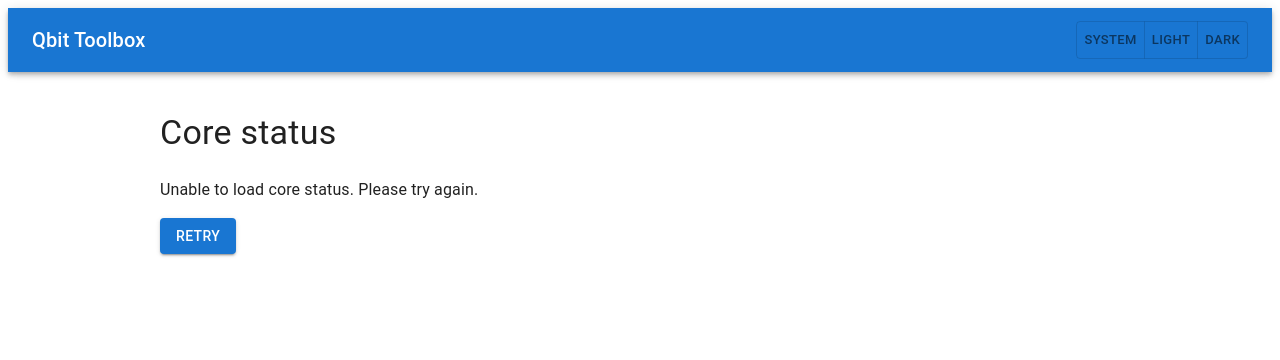
it: HomePage › shows a safe error and retries the status request
expect the message reads "Unable to load core status. Please try again.": met, box [160,180,478,199]
Click the button "Retry". click: (198, 236)
box: [160,218,236,254]
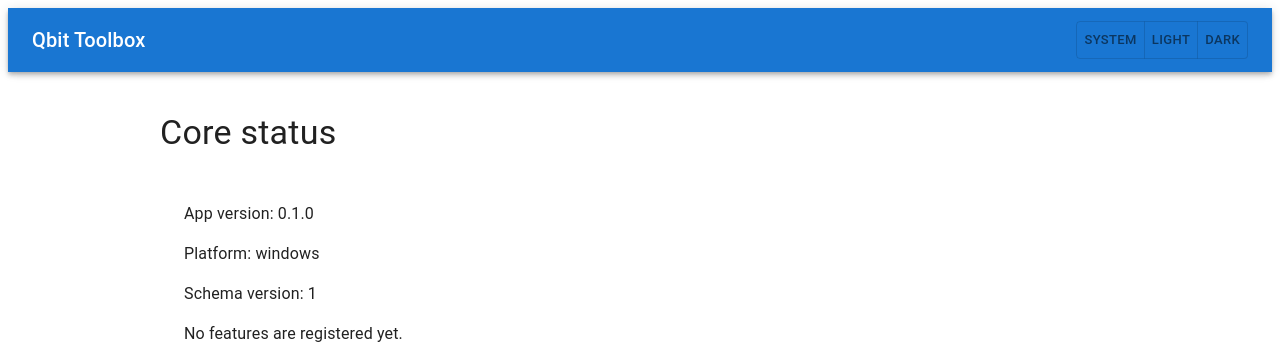
expect the text "No features are registered yet." is shown: met, box [184,324,403,343]
